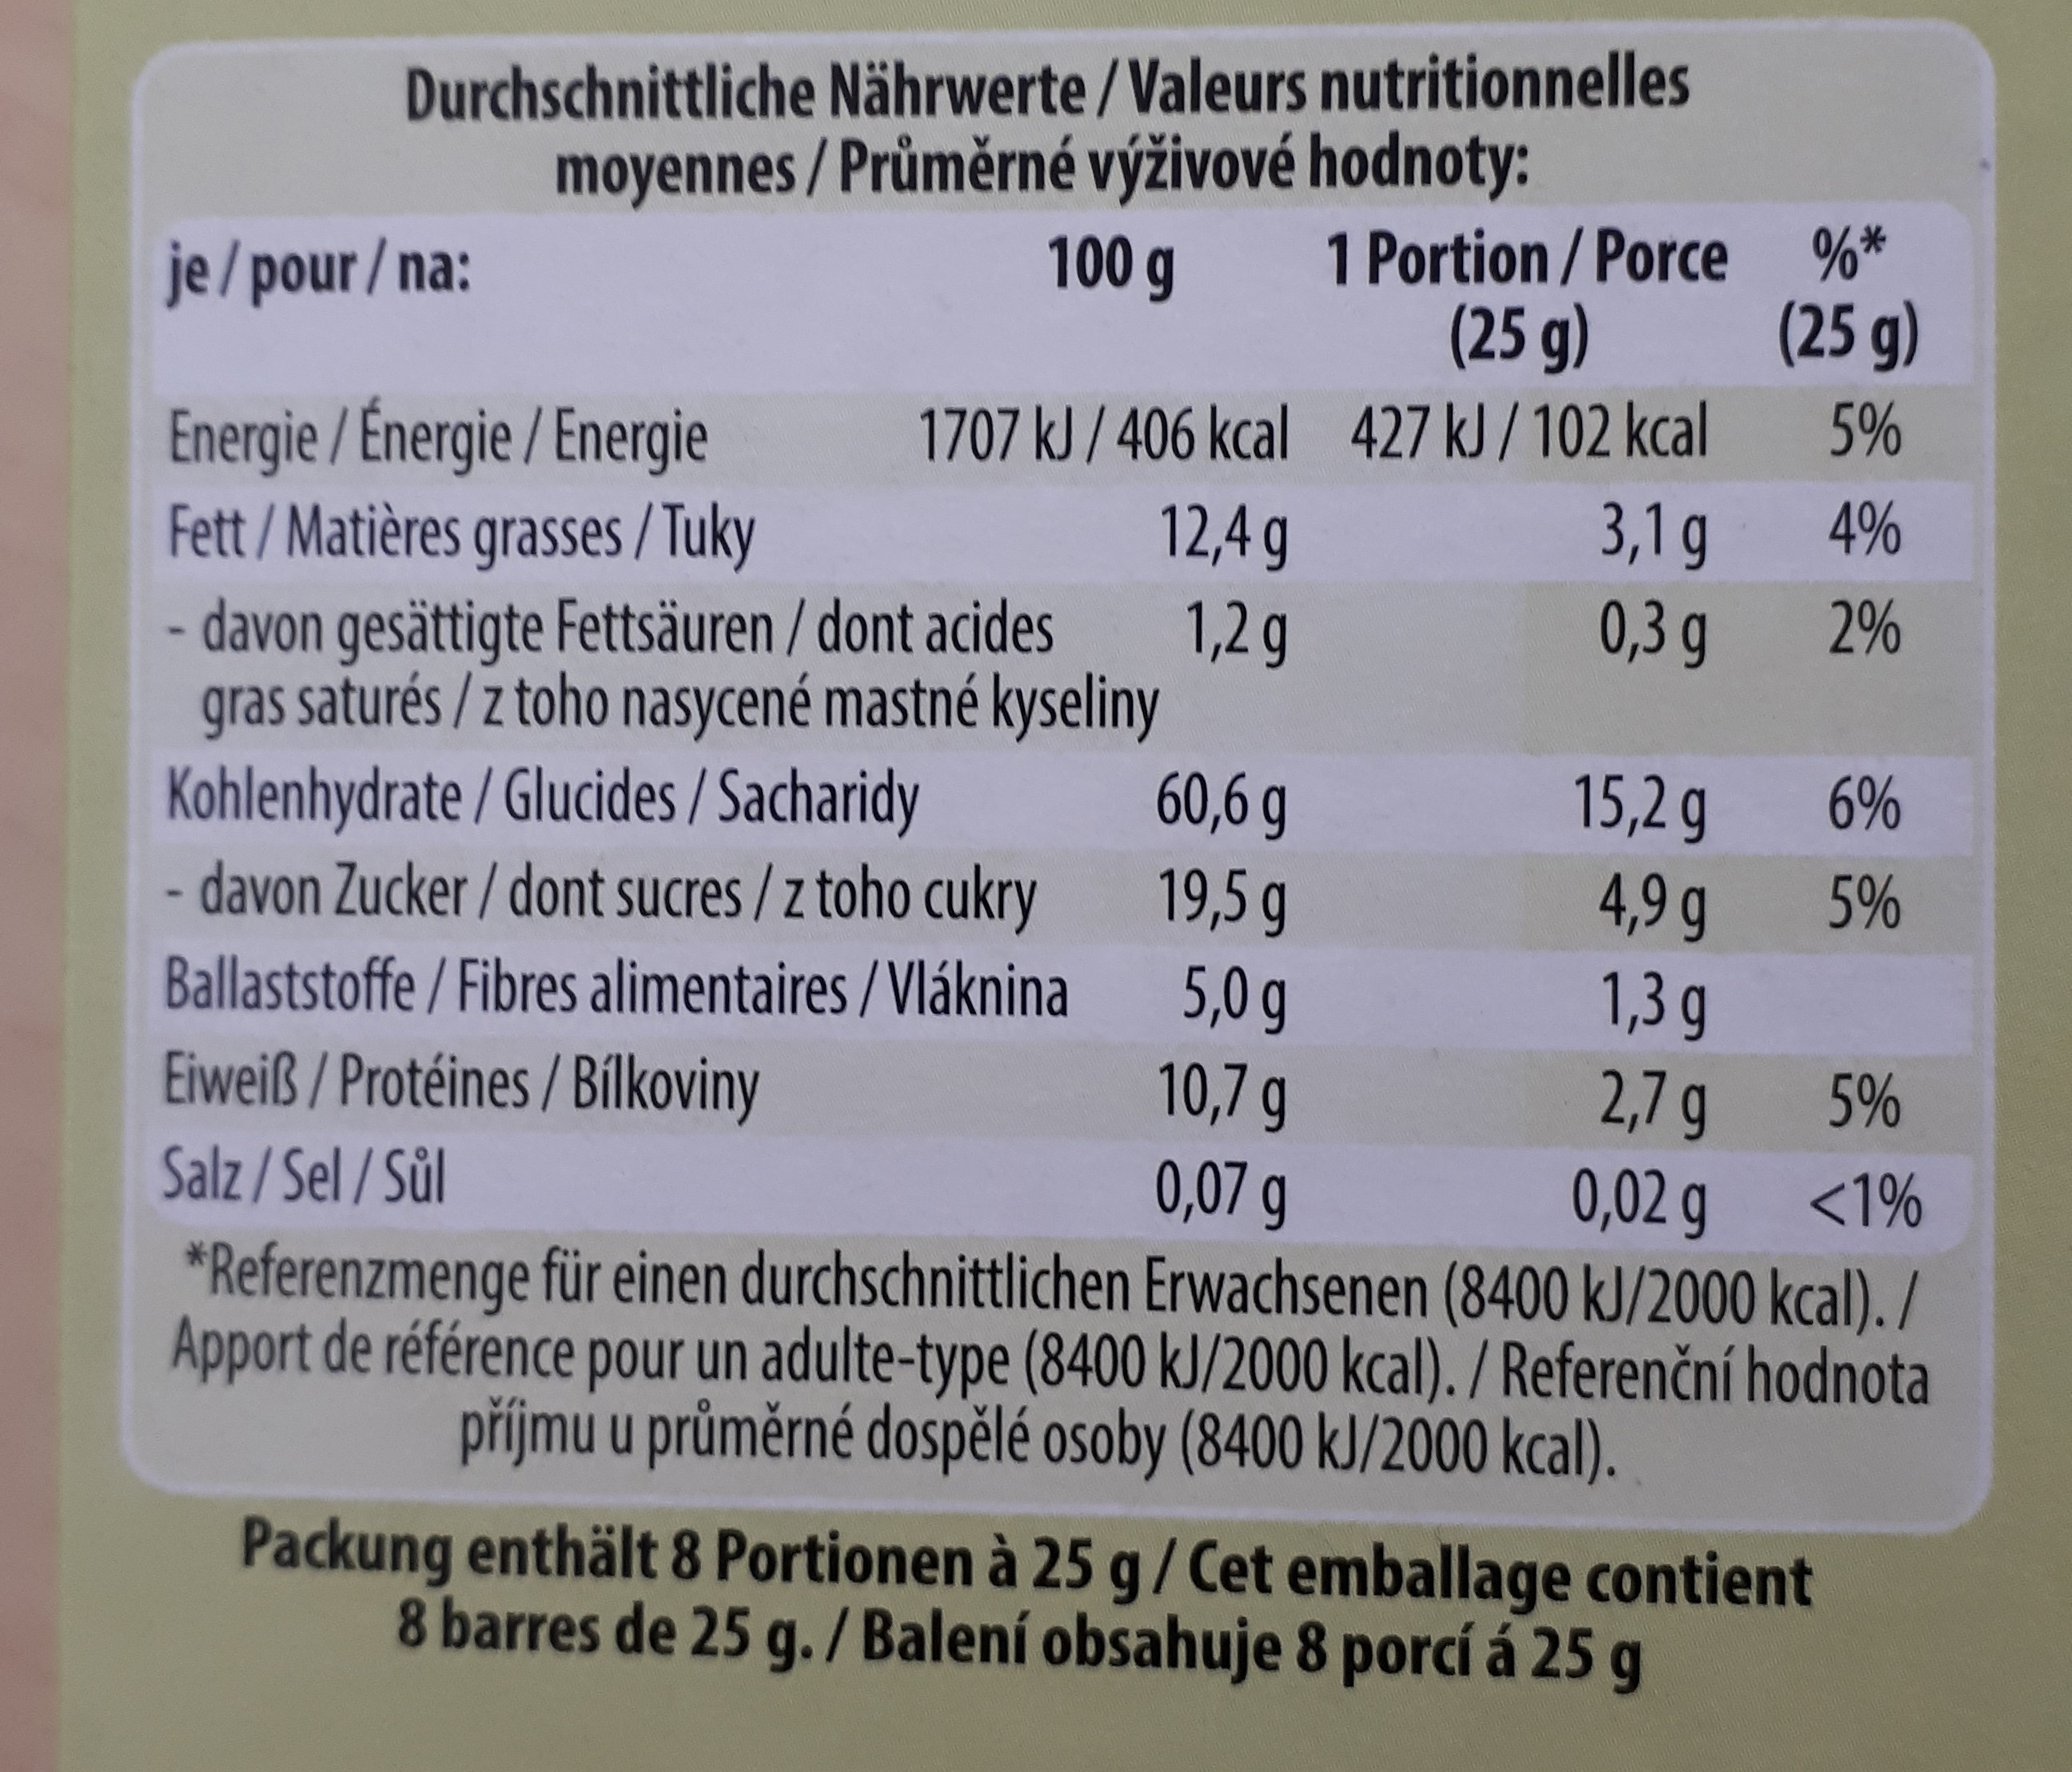column: (155, 216, 1293, 1234), (1327, 216, 1729, 1238), (1779, 211, 1947, 1248)
table: (111, 26, 2003, 1252)
